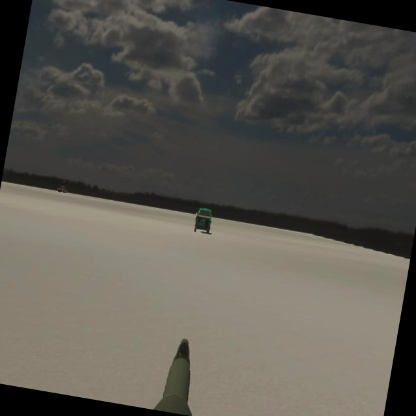green_car: (193, 206, 216, 235)
